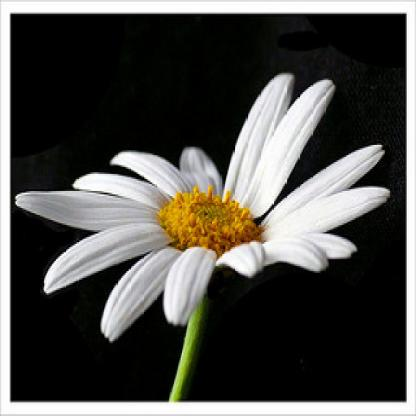ASTER: (13, 33, 399, 361)
